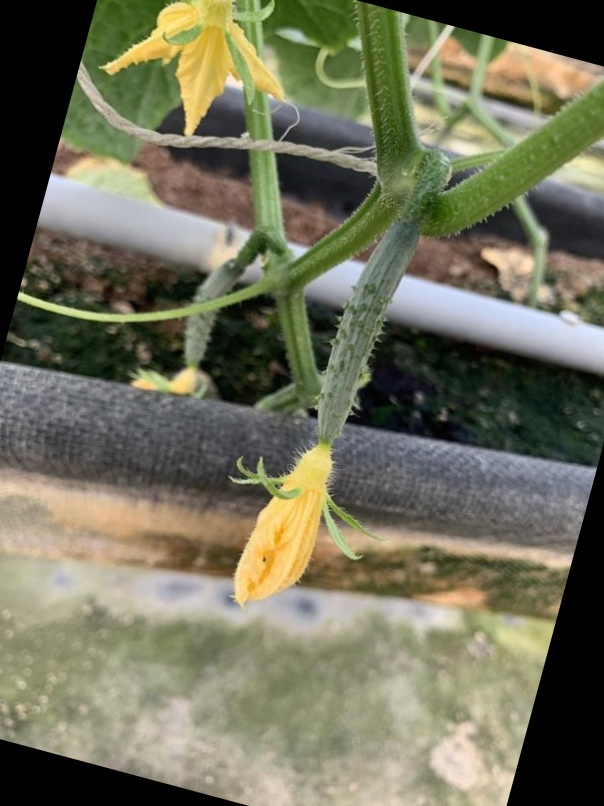bear: (229, 210, 433, 608)
